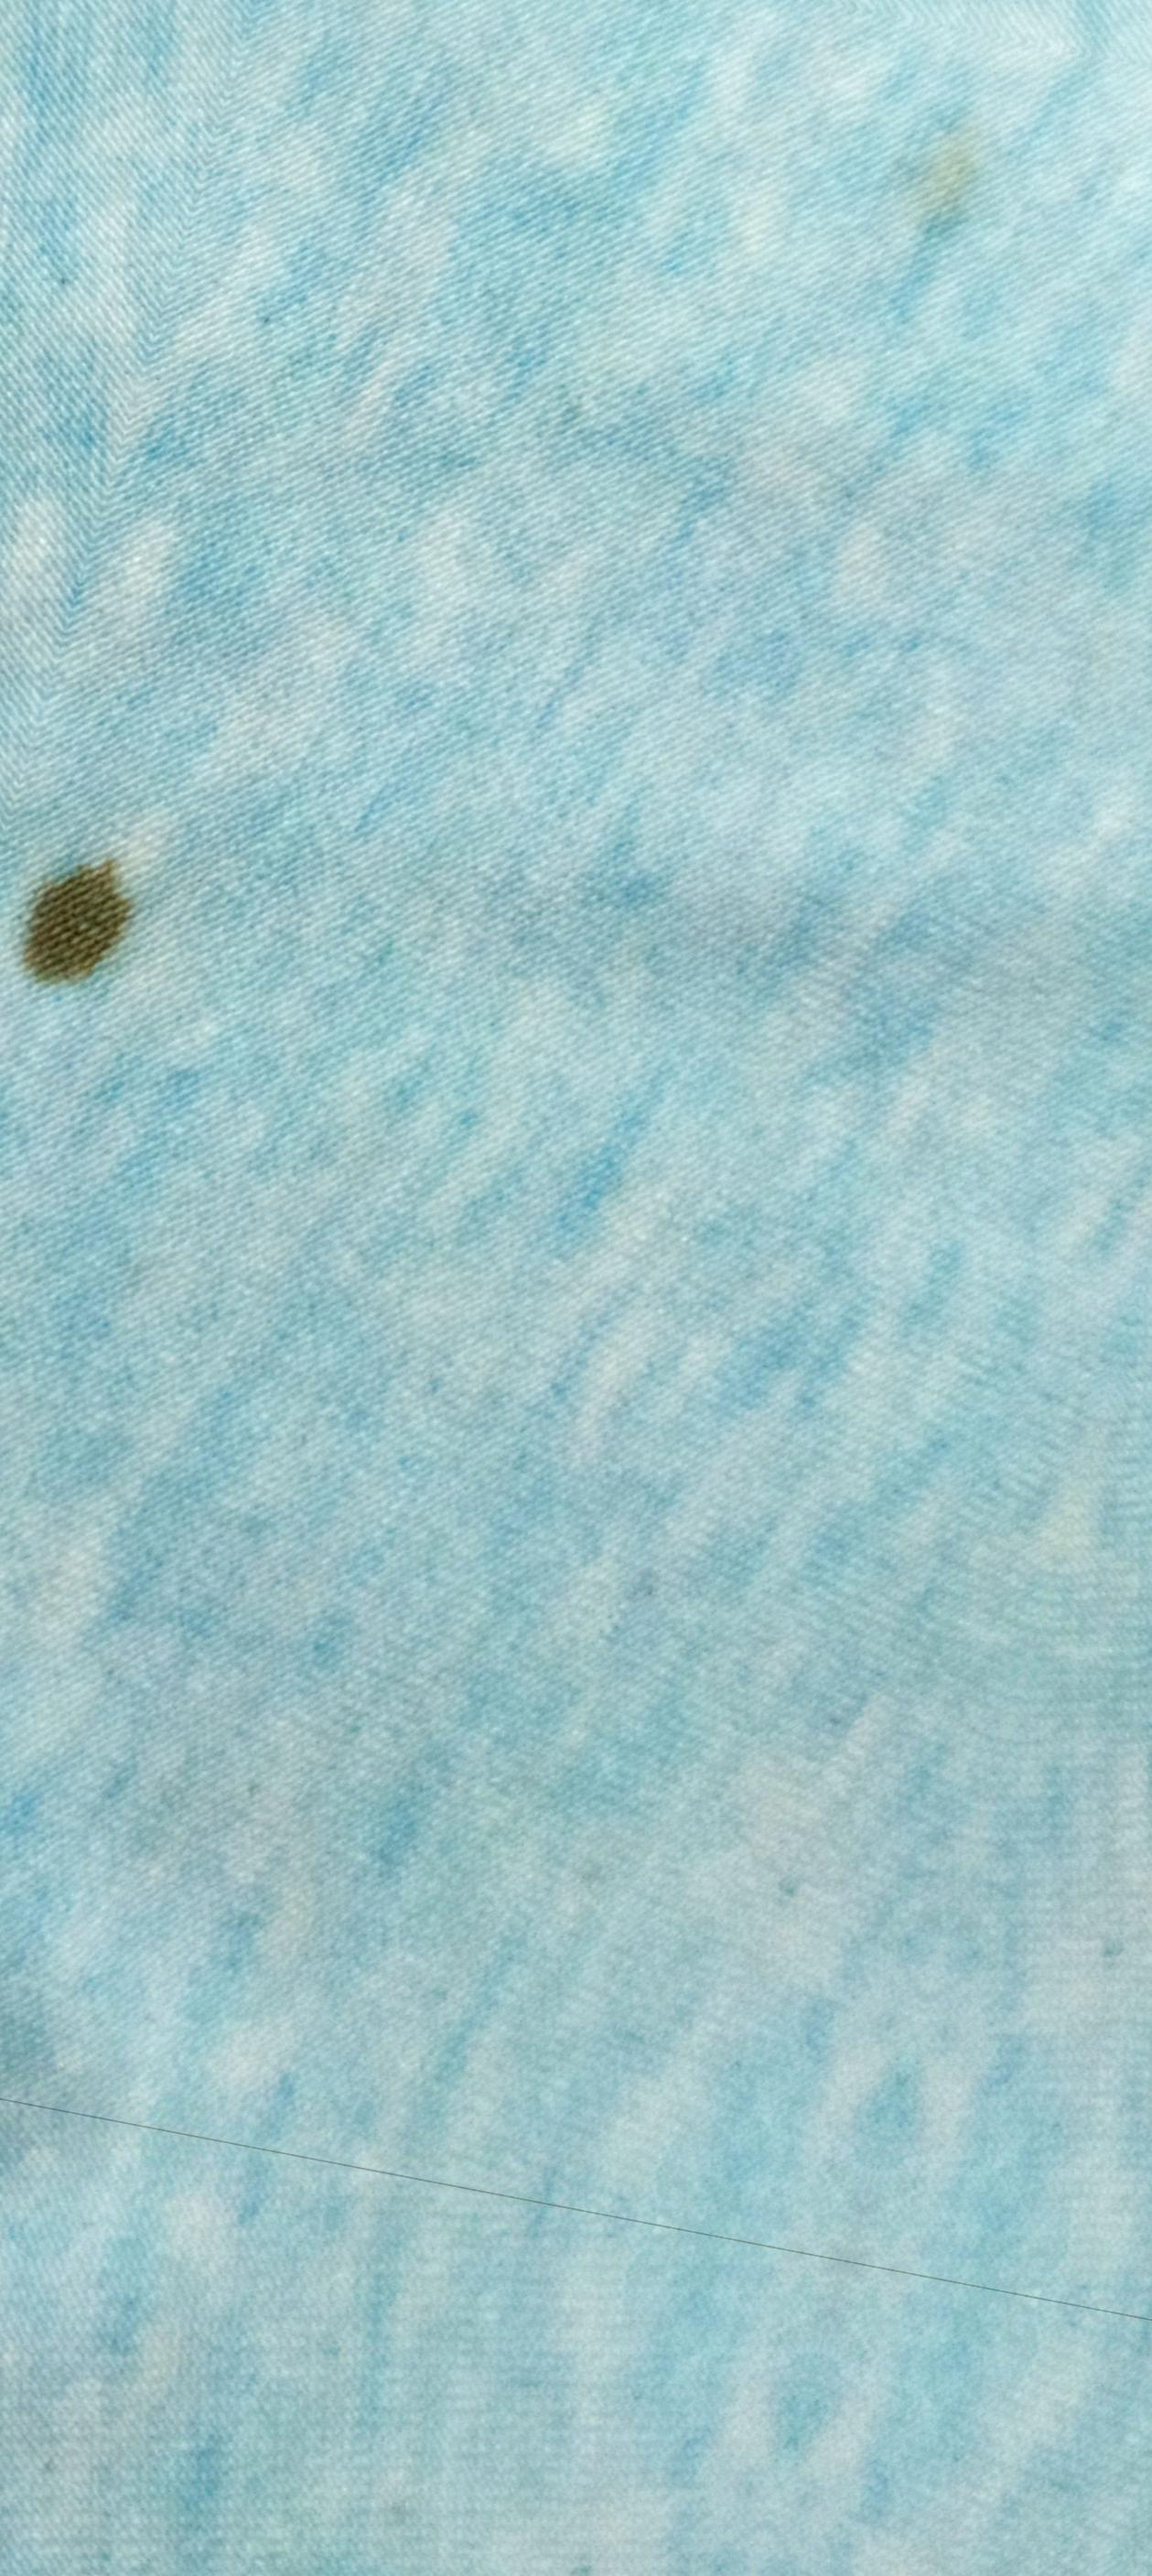stain: (3, 818, 145, 1055)
